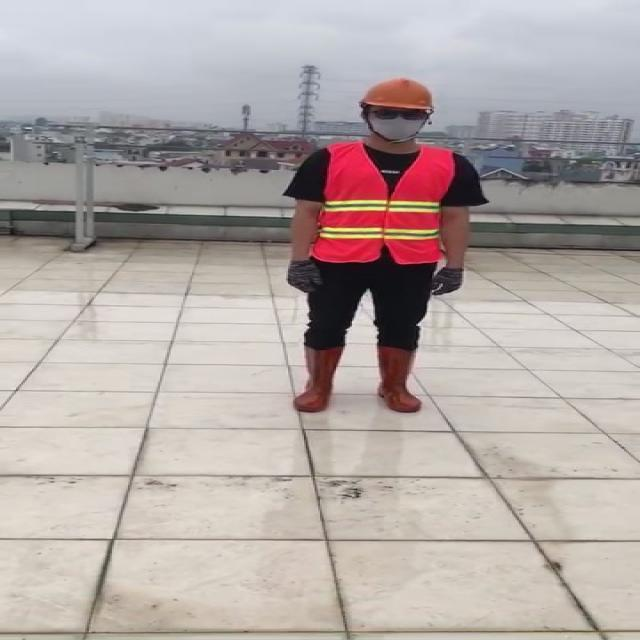gloves: (286, 257, 324, 293), (429, 265, 465, 297)
goggles: (366, 109, 430, 121)
helmet: (361, 77, 438, 111)
safety_vest: (314, 145, 455, 264)
